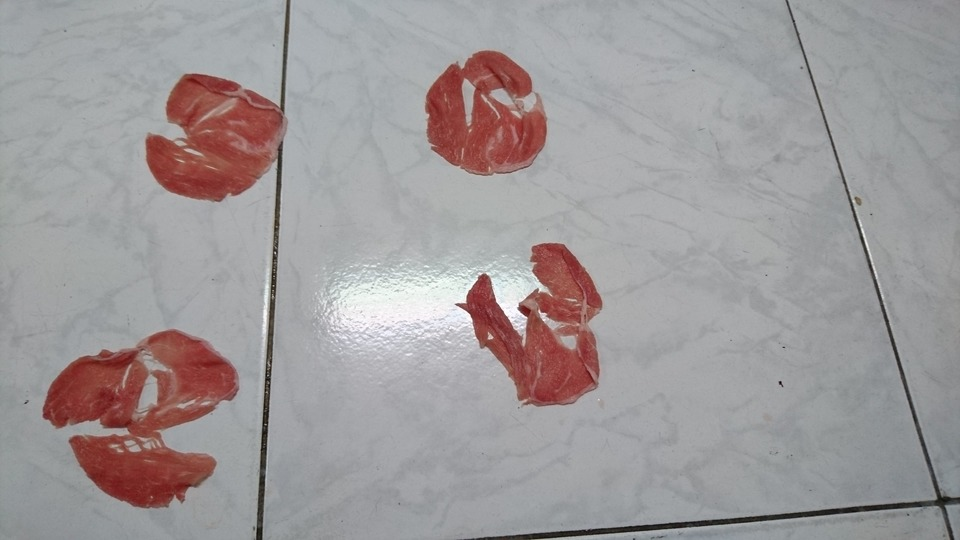restructured meat: (29, 322, 254, 513), (140, 48, 316, 216), (467, 244, 623, 407), (417, 56, 564, 176)
